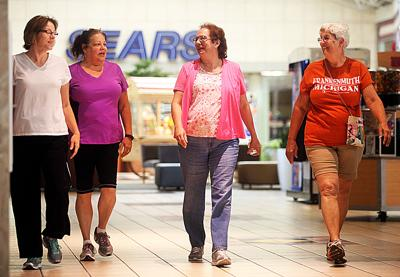Person: (293, 22, 393, 254), (169, 27, 255, 256), (67, 32, 140, 253), (13, 22, 67, 262)
